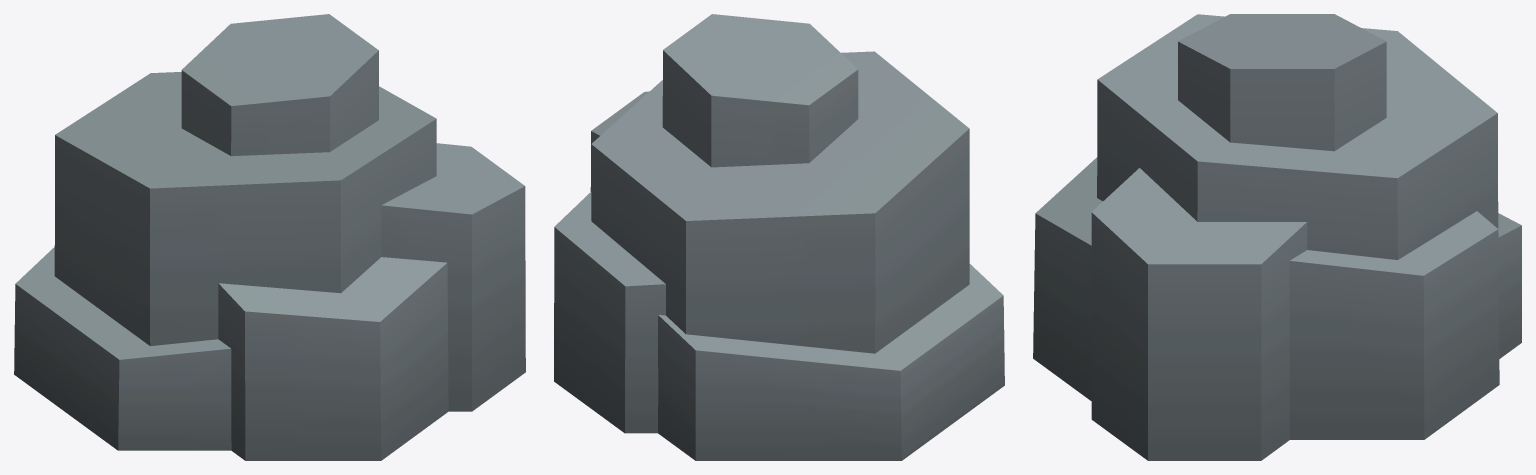
The model's file is mountain_a.glb.
3 views of the same model, side by side, from view 1: azimuth 30°, elevation 25°; view 2: azimuth 150°, elevation 25°; view 3: azimuth 270°, elevation 25° (orthographic). The views are drawn at different scales.
Visible parts, largest first — view 1: mountain_A; view 2: mountain_A; view 3: mountain_A.
Boxes of the visible parts, <box> form: mountain_A: <box>14,14,525,460</box>; mountain_A: <box>554,14,1004,460</box>; mountain_A: <box>1033,14,1521,460</box>.
Bounding box in the file's own units: 1.8 × 1.43 × 1.88.
1 material, 1 textured.
